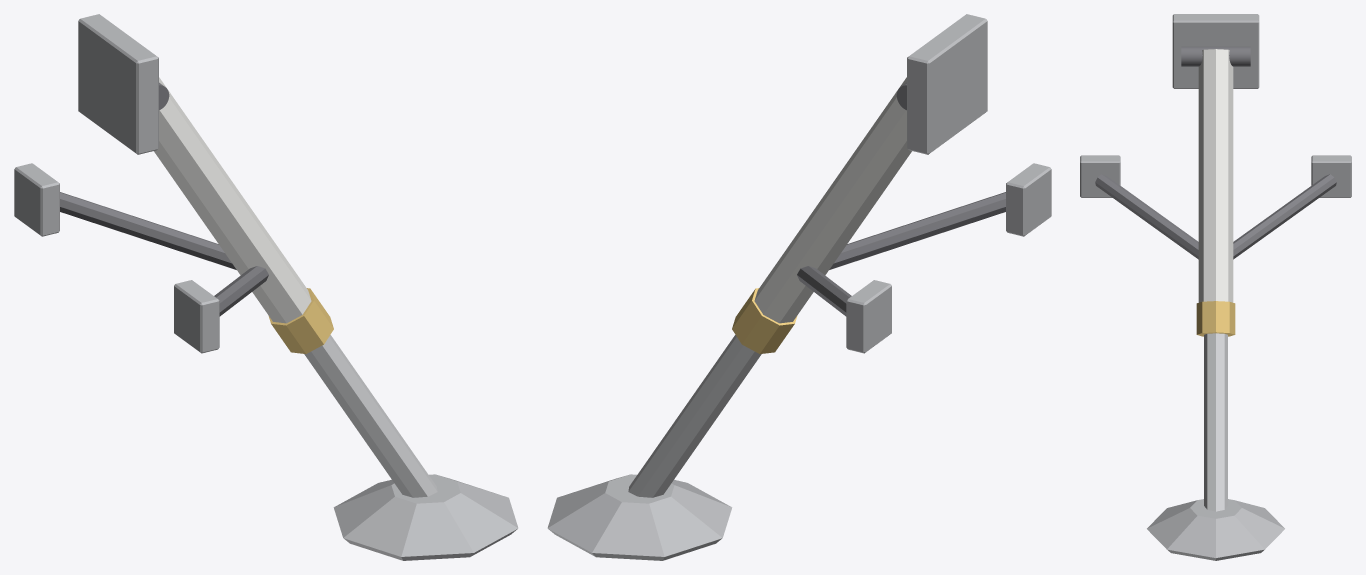
File: ax_gear_04_lander_leg_l_deployed.glb
3 views of the same model, side by side, from view 1: azimuth 30°, elevation 25°; view 2: azimuth 150°, elevation 25°; view 3: azimuth 270°, elevation 25° (orthographic). The views are drawn at different scales.
Visible parts, largest first — view 1: leg_hinge_block, leg_footpad, leg_outer_tube, leg_inner_tube, leg_secondary_struts, leg_crush_band; view 2: leg_hinge_block, leg_footpad, leg_outer_tube, leg_inner_tube, leg_secondary_struts, leg_crush_band; view 3: leg_outer_tube, leg_hinge_block, leg_footpad, leg_inner_tube, leg_secondary_struts, leg_crush_band, leg_hinge_pin.
Part boxes in pixels (x1=…): leg_hinge_block: x1=14, y1=14, x2=219, y2=353; leg_footpad: x1=333, y1=474, x2=518, y2=560; leg_outer_tube: x1=154, y1=77, x2=311, y2=323; leg_inner_tube: x1=304, y1=335, x2=437, y2=497; leg_secondary_struts: x1=60, y1=192, x2=268, y2=316; leg_crush_band: x1=268, y1=288, x2=333, y2=353; leg_hinge_block: x1=846, y1=14, x2=1051, y2=353; leg_footpad: x1=547, y1=474, x2=732, y2=560; leg_outer_tube: x1=754, y1=77, x2=911, y2=323; leg_inner_tube: x1=628, y1=335, x2=761, y2=497; leg_secondary_struts: x1=797, y1=192, x2=1005, y2=316; leg_crush_band: x1=732, y1=288, x2=797, y2=353; leg_outer_tube: x1=1198, y1=49, x2=1233, y2=302; leg_hinge_block: x1=1080, y1=14, x2=1351, y2=197; leg_footpad: x1=1147, y1=499, x2=1284, y2=560; leg_inner_tube: x1=1204, y1=333, x2=1227, y2=511; leg_secondary_struts: x1=1095, y1=174, x2=1336, y2=259; leg_crush_band: x1=1196, y1=301, x2=1235, y2=336; leg_hinge_pin: x1=1181, y1=46, x2=1250, y2=66.
Size of the model in its own units: 2.47 by 3.31 by 2.
